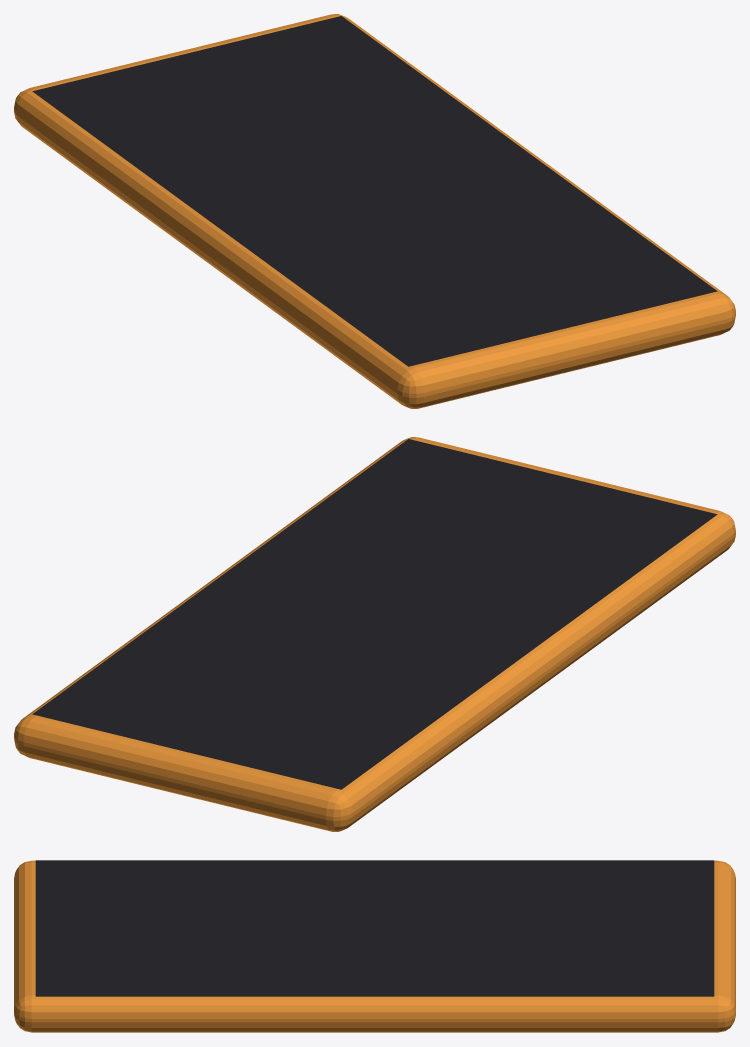
File: oneplus-nord-ce-model-261-flagship-2023.glb
The picture shows the model from 3 angles, top to bottom: view 1: azimuth 30°, elevation 25°; view 2: azimuth 150°, elevation 25°; view 3: azimuth 270°, elevation 25°; orthographic projection. The views are drawn at different scales.
Visible parts, largest first — view 1: Phone_Screen, Phone_Body; view 2: Phone_Screen, Phone_Body; view 3: Phone_Screen, Phone_Body.
Boxes of the visible parts, <box> form: Phone_Screen: <box>32,16,717,366</box>; Phone_Body: <box>14,14,735,408</box>; Phone_Screen: <box>32,439,717,789</box>; Phone_Body: <box>14,437,735,831</box>; Phone_Screen: <box>35,860,714,996</box>; Phone_Body: <box>14,860,735,1032</box>.
Size of the model in its own units: 0.0707 by 0.008 by 0.1458.
